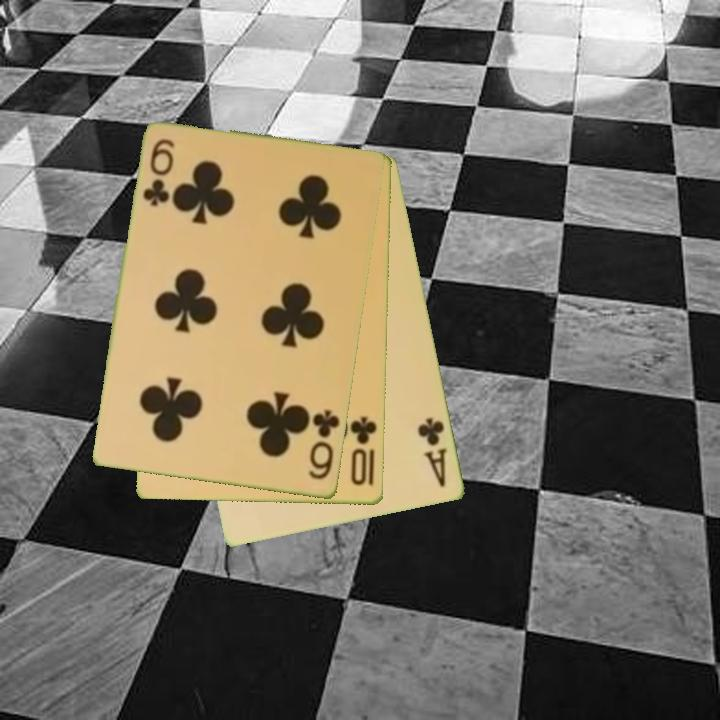10c: (347, 413, 380, 488)
6c: (305, 406, 343, 483), (140, 135, 176, 210)
Ac: (414, 414, 451, 491)
